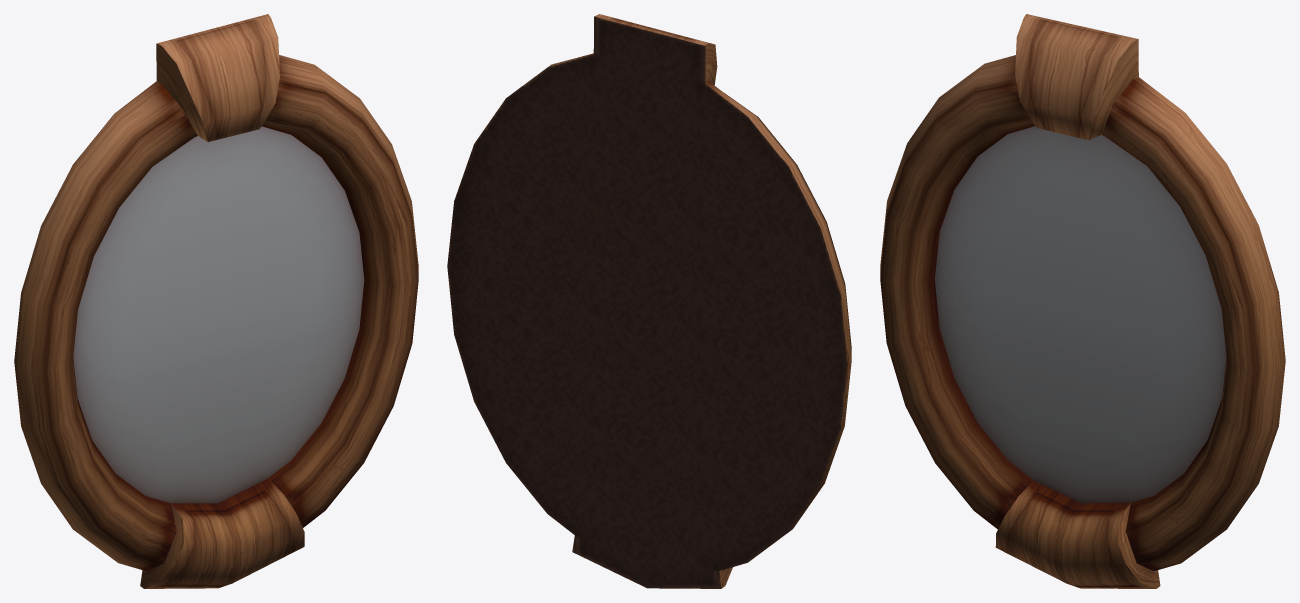
File: BathMirror01.FBX
The picture shows the model from 3 angles, left to right: view 1: azimuth 30°, elevation 25°; view 2: azimuth 150°, elevation 25°; view 3: azimuth 330°, elevation 25°; orthographic projection.
Parts seen in each view (by area): view 1: BathMirror01; view 2: BathMirror01; view 3: BathMirror01.
Boxes of the visible parts, x1,y1,x2,y2 form: BathMirror01: (14, 14, 418, 588); BathMirror01: (447, 14, 851, 588); BathMirror01: (880, 14, 1285, 588).
Size of what is drawn, in the model's own units: 0.574 by 0.765 by 0.0661.
